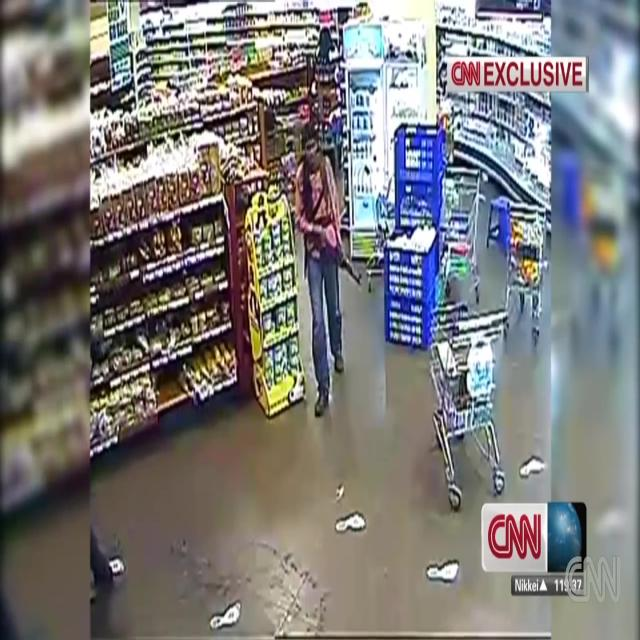Weapon: (294, 205, 374, 308)
